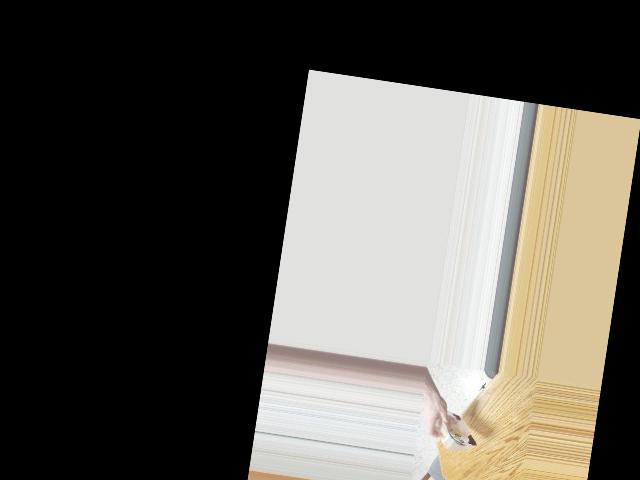cheese: (433, 398, 482, 461)
